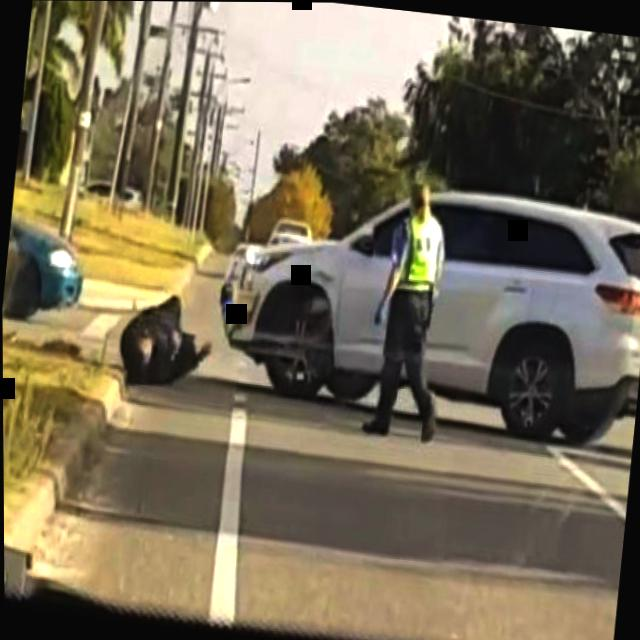Fall-Detected: (105, 270, 221, 397)
